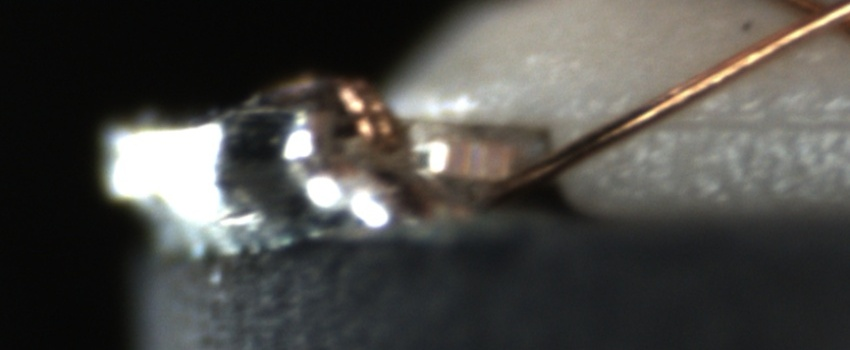CL: (770, 0, 848, 45)
DL: (626, 93, 848, 157)
TE: (315, 70, 400, 154)
